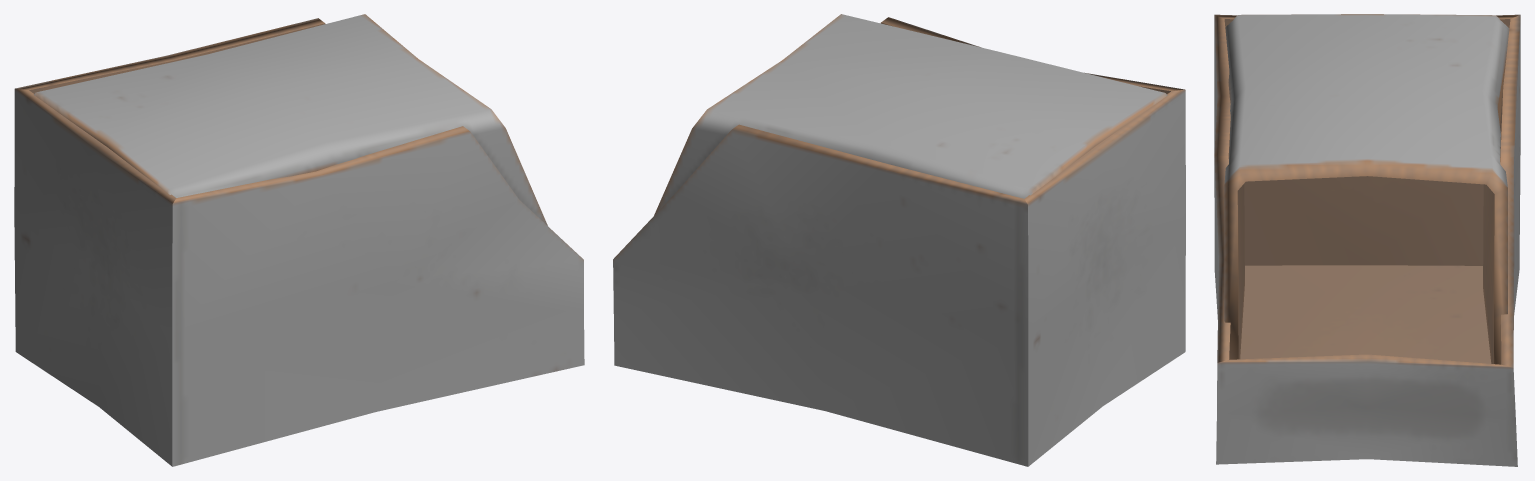
Rendered from SM_CartonDrawer_06.FBX.
3 renders of one model, left to right at view 1: azimuth 30°, elevation 25°; view 2: azimuth 150°, elevation 25°; view 3: azimuth 270°, elevation 25°, orthographic. The views are drawn at different scales.
Visible parts, largest first — view 1: SM_CartonDrawer_06; view 2: SM_CartonDrawer_06; view 3: SM_CartonDrawer_06.
Boxes of the visible parts, left/top/right/bottom form: SM_CartonDrawer_06: left=14, top=14, right=584, bottom=466; SM_CartonDrawer_06: left=613, top=14, right=1185, bottom=466; SM_CartonDrawer_06: left=1214, top=14, right=1520, bottom=466.
Size of the model in its own units: 23.66 by 15.41 by 15.04.
